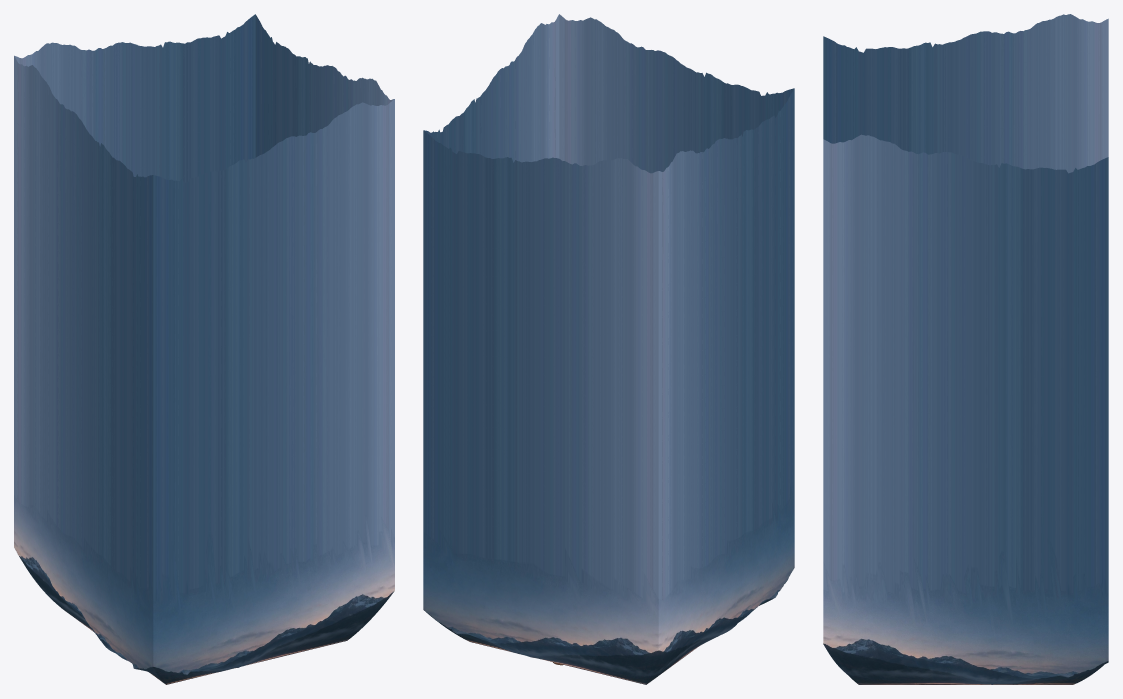
Rendered from sous-la-peau.glb.
The picture shows the model from 3 angles, left to right: view 1: azimuth 30°, elevation 25°; view 2: azimuth 150°, elevation 25°; view 3: azimuth 270°, elevation 25°; orthographic projection. The views are drawn at different scales.
Visible parts, largest first — view 1: 01 • Le lac et ses reliefs; view 2: 01 • Le lac et ses reliefs; view 3: 01 • Le lac et ses reliefs.
Part boxes in pixels (left/top/right/bottom): 01 • Le lac et ses reliefs: left=14, top=14, right=394, bottom=684; 01 • Le lac et ses reliefs: left=423, top=14, right=794, bottom=684; 01 • Le lac et ses reliefs: left=823, top=14, right=1108, bottom=684.
Size of the model in its own units: 272 by 596 by 272.
Materials: 30 (30 with a texture image).
